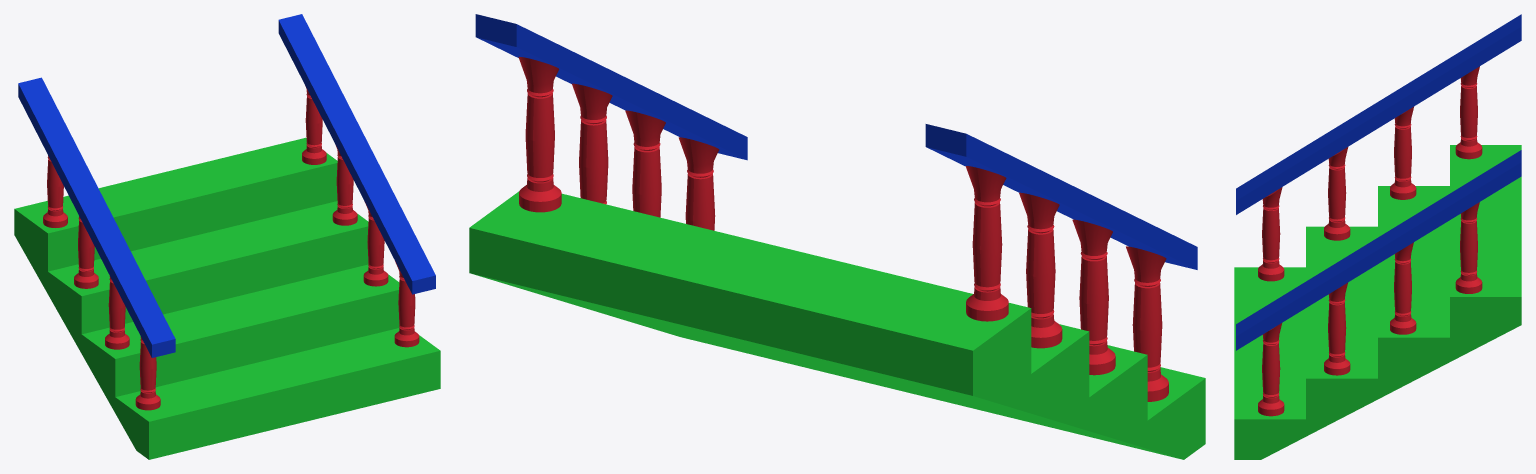
File: Unity HD Render Pipeline (Metallic Standard).fbx
The picture shows the model from 3 angles, left to right: view 1: azimuth 30°, elevation 25°; view 2: azimuth 150°, elevation 25°; view 3: azimuth 270°, elevation 25°; orthographic projection. The views are drawn at different scales.
Parts seen in each view (by area): view 1: InteriorStairsbase (×3); view 2: InteriorStairsbase (×3); view 3: InteriorStairsbase (×3).
Boxes of the visible parts, left/top/right/bottom form: InteriorStairsbase (×3): left=14, top=14, right=440, bottom=459; InteriorStairsbase (×3): left=469, top=14, right=1205, bottom=459; InteriorStairsbase (×3): left=1234, top=14, right=1521, bottom=459.
Bounding box in the file's own units: 2 × 1.82 × 1.6.
